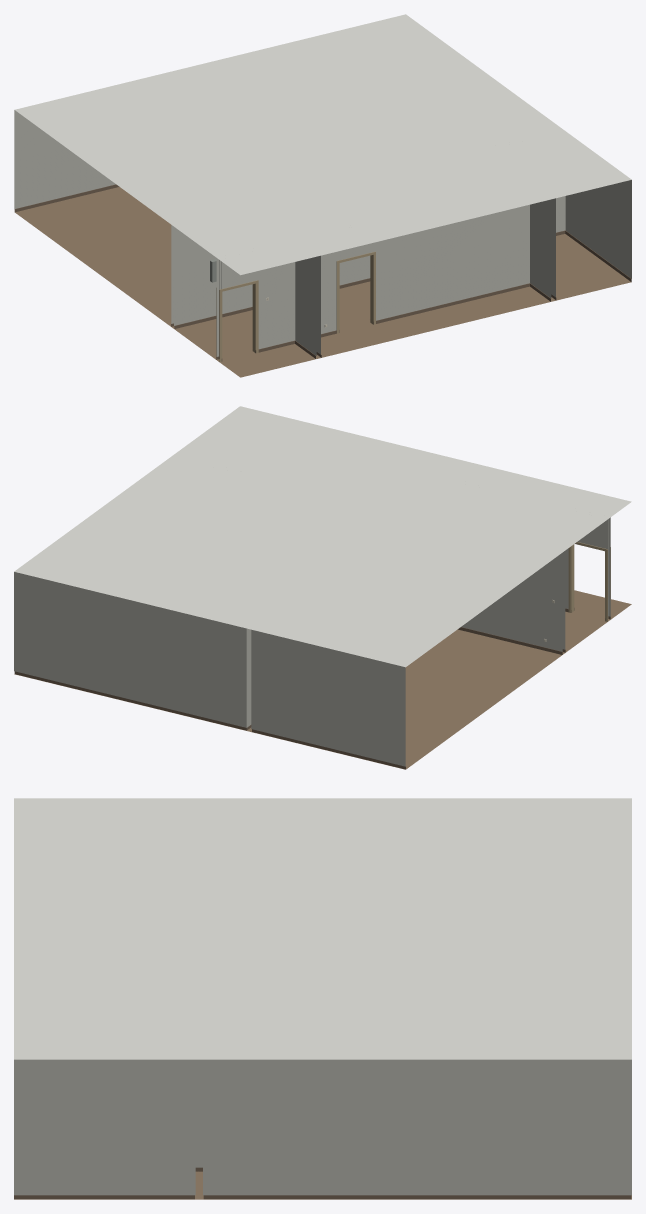
File: chunk_3_0.glb
The picture shows the model from 3 angles, top to bottom: view 1: azimuth 30°, elevation 25°; view 2: azimuth 150°, elevation 25°; view 3: azimuth 270°, elevation 25°; orthographic projection. The views are drawn at different scales.
Parts seen in each view (by area): view 1: chunk_3_0; view 2: chunk_3_0; view 3: chunk_3_0.
Part boxes in pixels (x1,y1,x2,y2): chunk_3_0: (14, 14, 631, 377); chunk_3_0: (14, 406, 631, 769); chunk_3_0: (14, 798, 631, 1199).
Bounding box in the file's own units: 12.01 × 3 × 12.
